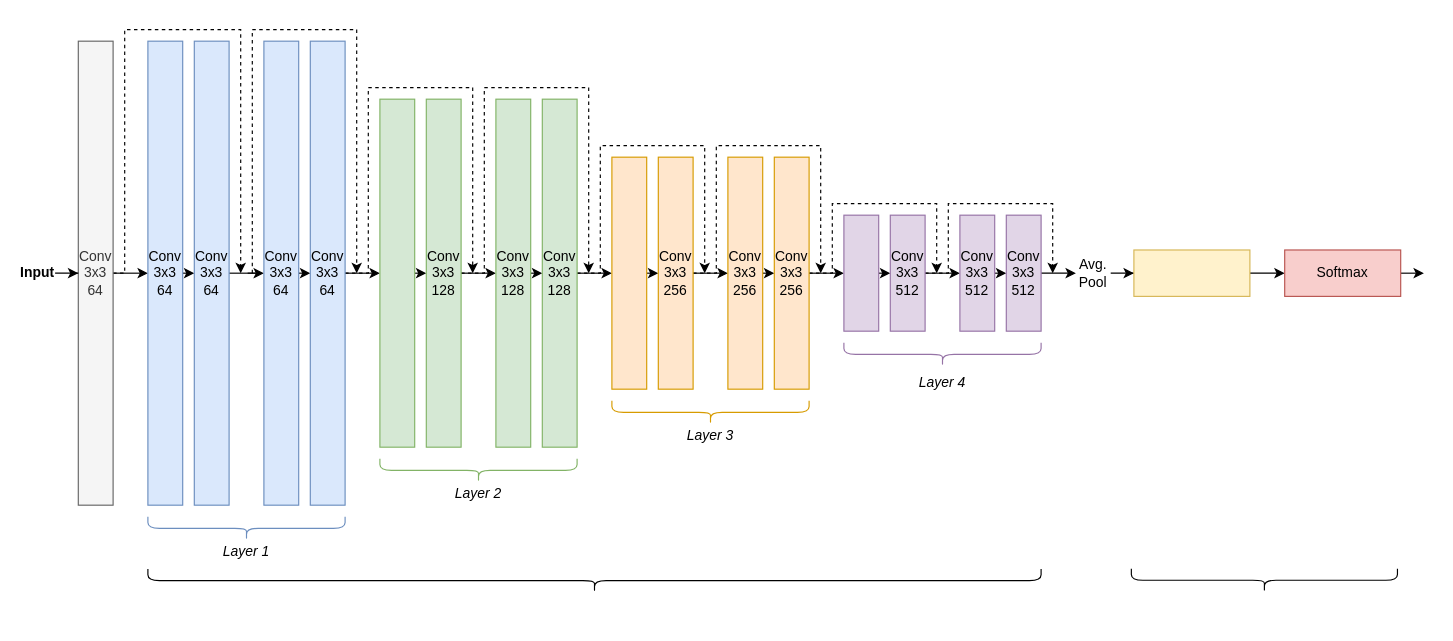
This 1453x641 diagram has some shape labels left out. The centre of each missing label's shape, as x and y in pixels:
Conv 3x3 128 /2: [397,272]
Conv 3x3 256 /2: [629,272]
Conv 3x3 512 /2: [861,272]
Custom Classifier: [1263,579]
Fully Connected: [1191,272]
Pretrained / Fine-tuning: [594,580]
